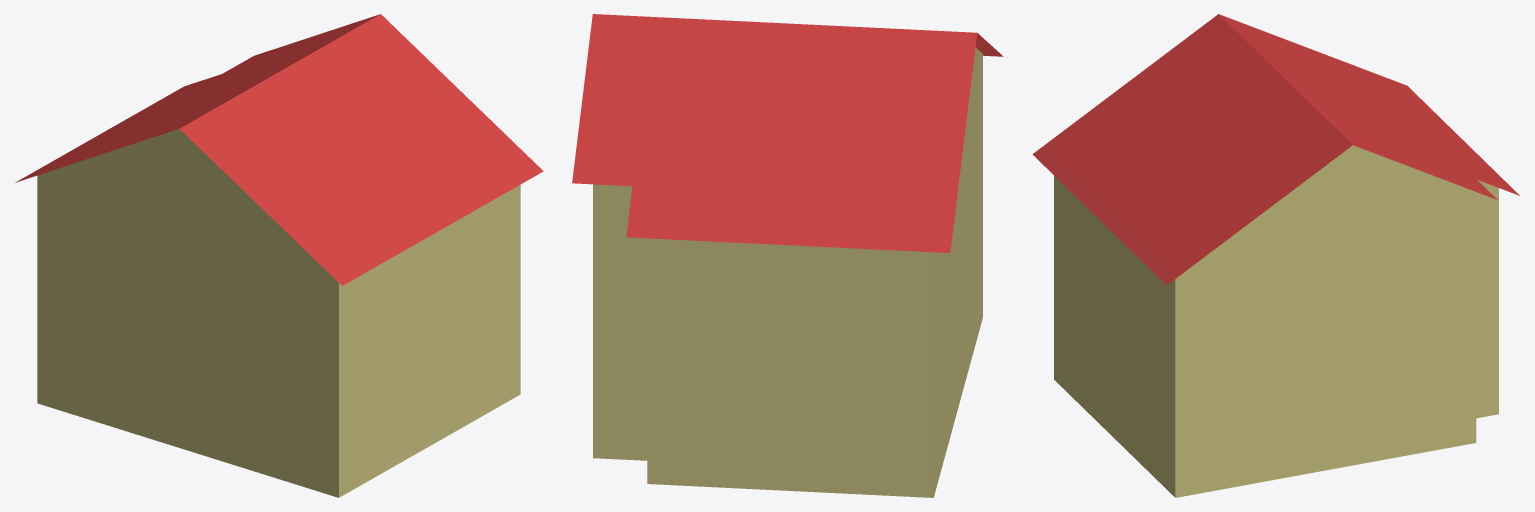
3 views of the same model, side by side, from view 1: azimuth 30°, elevation 25°; view 2: azimuth 150°, elevation 25°; view 3: azimuth 270°, elevation 25° (orthographic). The views are drawn at different scales.
Bounding box in the file's own units: 14.28 × 14.75 × 10.93.
